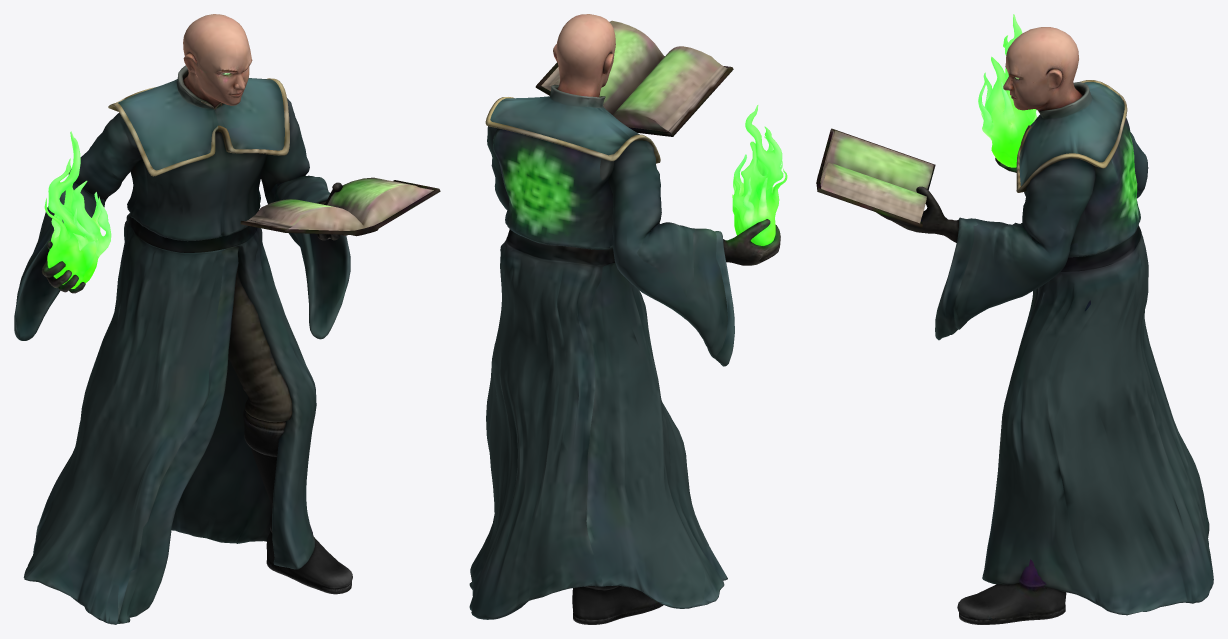
The model's file is MZ4250 - Mage Apprentice Male_2 2025.glb.
3 views of the same model, side by side, from view 1: azimuth 30°, elevation 25°; view 2: azimuth 150°, elevation 25°; view 3: azimuth 270°, elevation 25° (orthographic). The views are drawn at different scales.
Parts seen in each view (by area): view 1: Body.002; view 2: Body.002; view 3: Body.002.
Part boxes in pixels (x1,y1,x2,y2): Body.002: (14, 14, 440, 624); Body.002: (469, 14, 787, 624); Body.002: (816, 14, 1213, 624).
Bounding box in the file's own units: 50.92 × 90.69 × 59.04.
3 materials, 3 textured.
